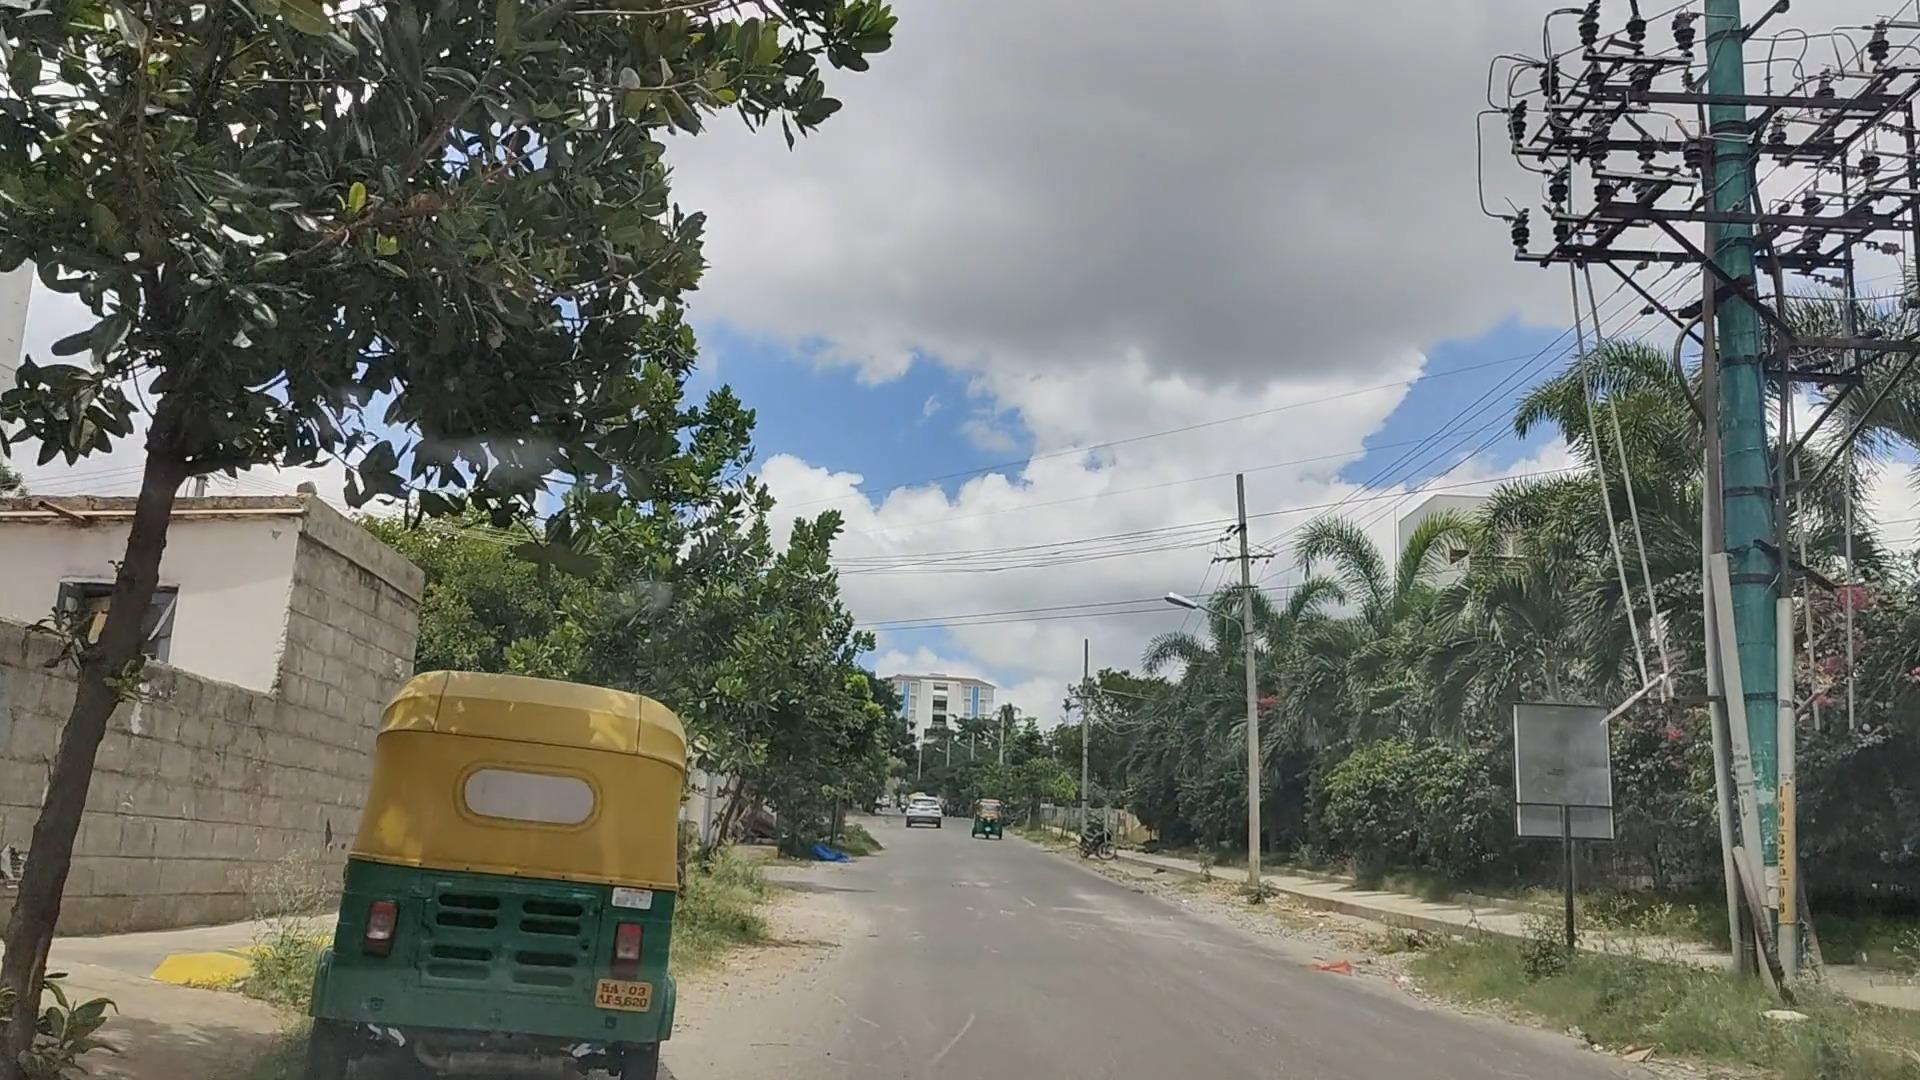RoadDamages: (1036, 885, 1197, 960)
